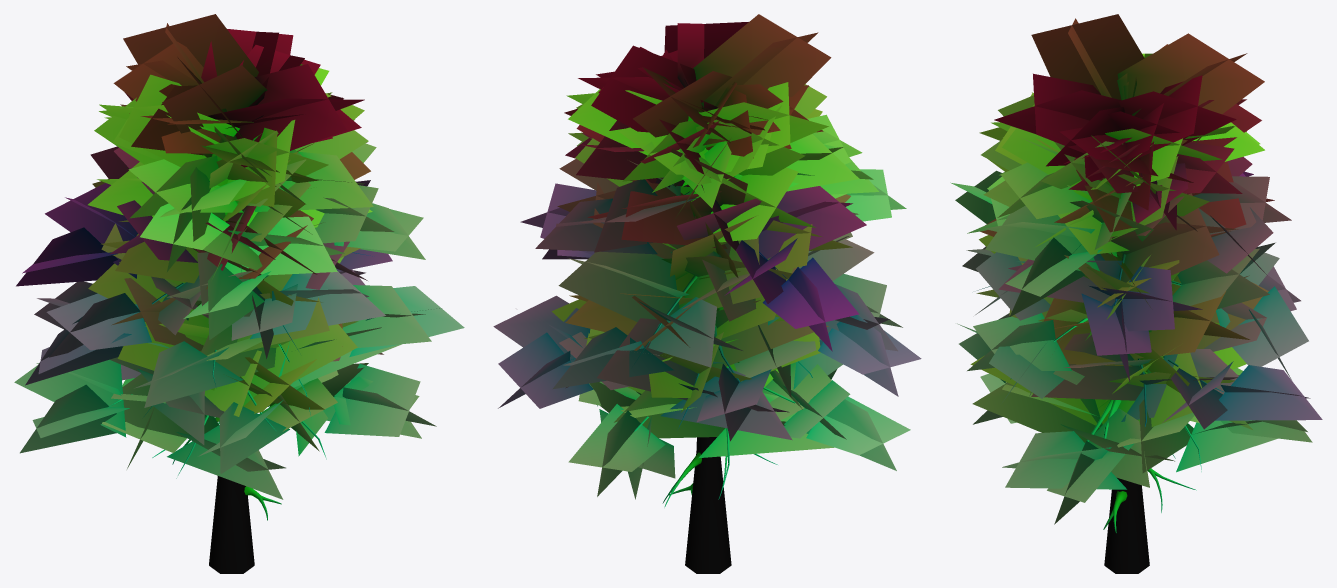
File: M_Pine_1_13.fbx
3 renders of one model, left to right at view 1: azimuth 30°, elevation 25°; view 2: azimuth 150°, elevation 25°; view 3: azimuth 270°, elevation 25°, orthographic. The views are drawn at different scales.
Parts seen in each view (by area): view 1: Tree_13; view 2: Tree_13; view 3: Tree_13.
Part boxes in pixels (x1,y1,x2,y2): Tree_13: [14, 14, 464, 573]; Tree_13: [493, 14, 921, 573]; Tree_13: [950, 14, 1322, 573].
Bounding box in the file's own units: 707 × 949 × 613.
